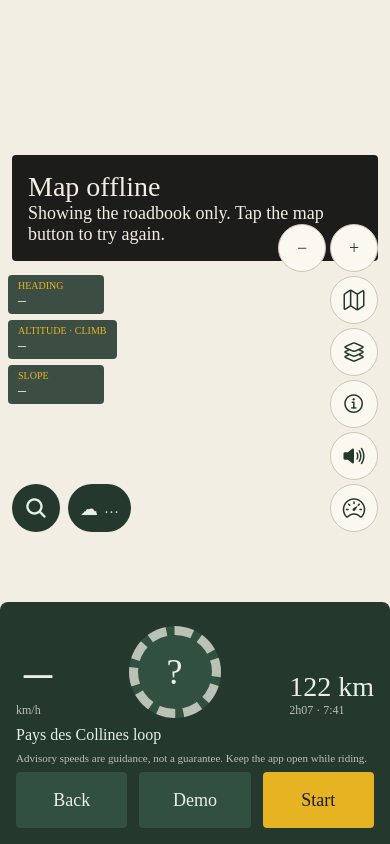
Test case: with no network the row says the weather is not loaded, and Try again asks again
Click the button with test id "weather-row": (100, 508) [68, 484, 131, 532]
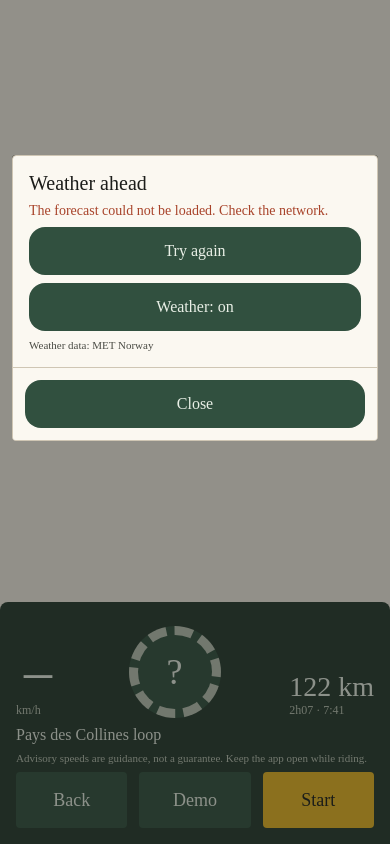
Check: the text "The forecast could not be loaded. Check the network." is shown, box [29, 203, 361, 219]
Click the button labelled "Try again": (195, 251) [29, 227, 361, 275]
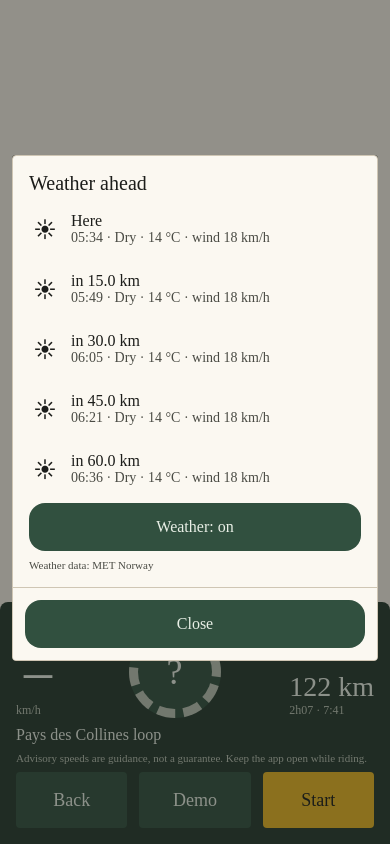
Check: the text "Here" is shown, box [71, 212, 102, 229]
